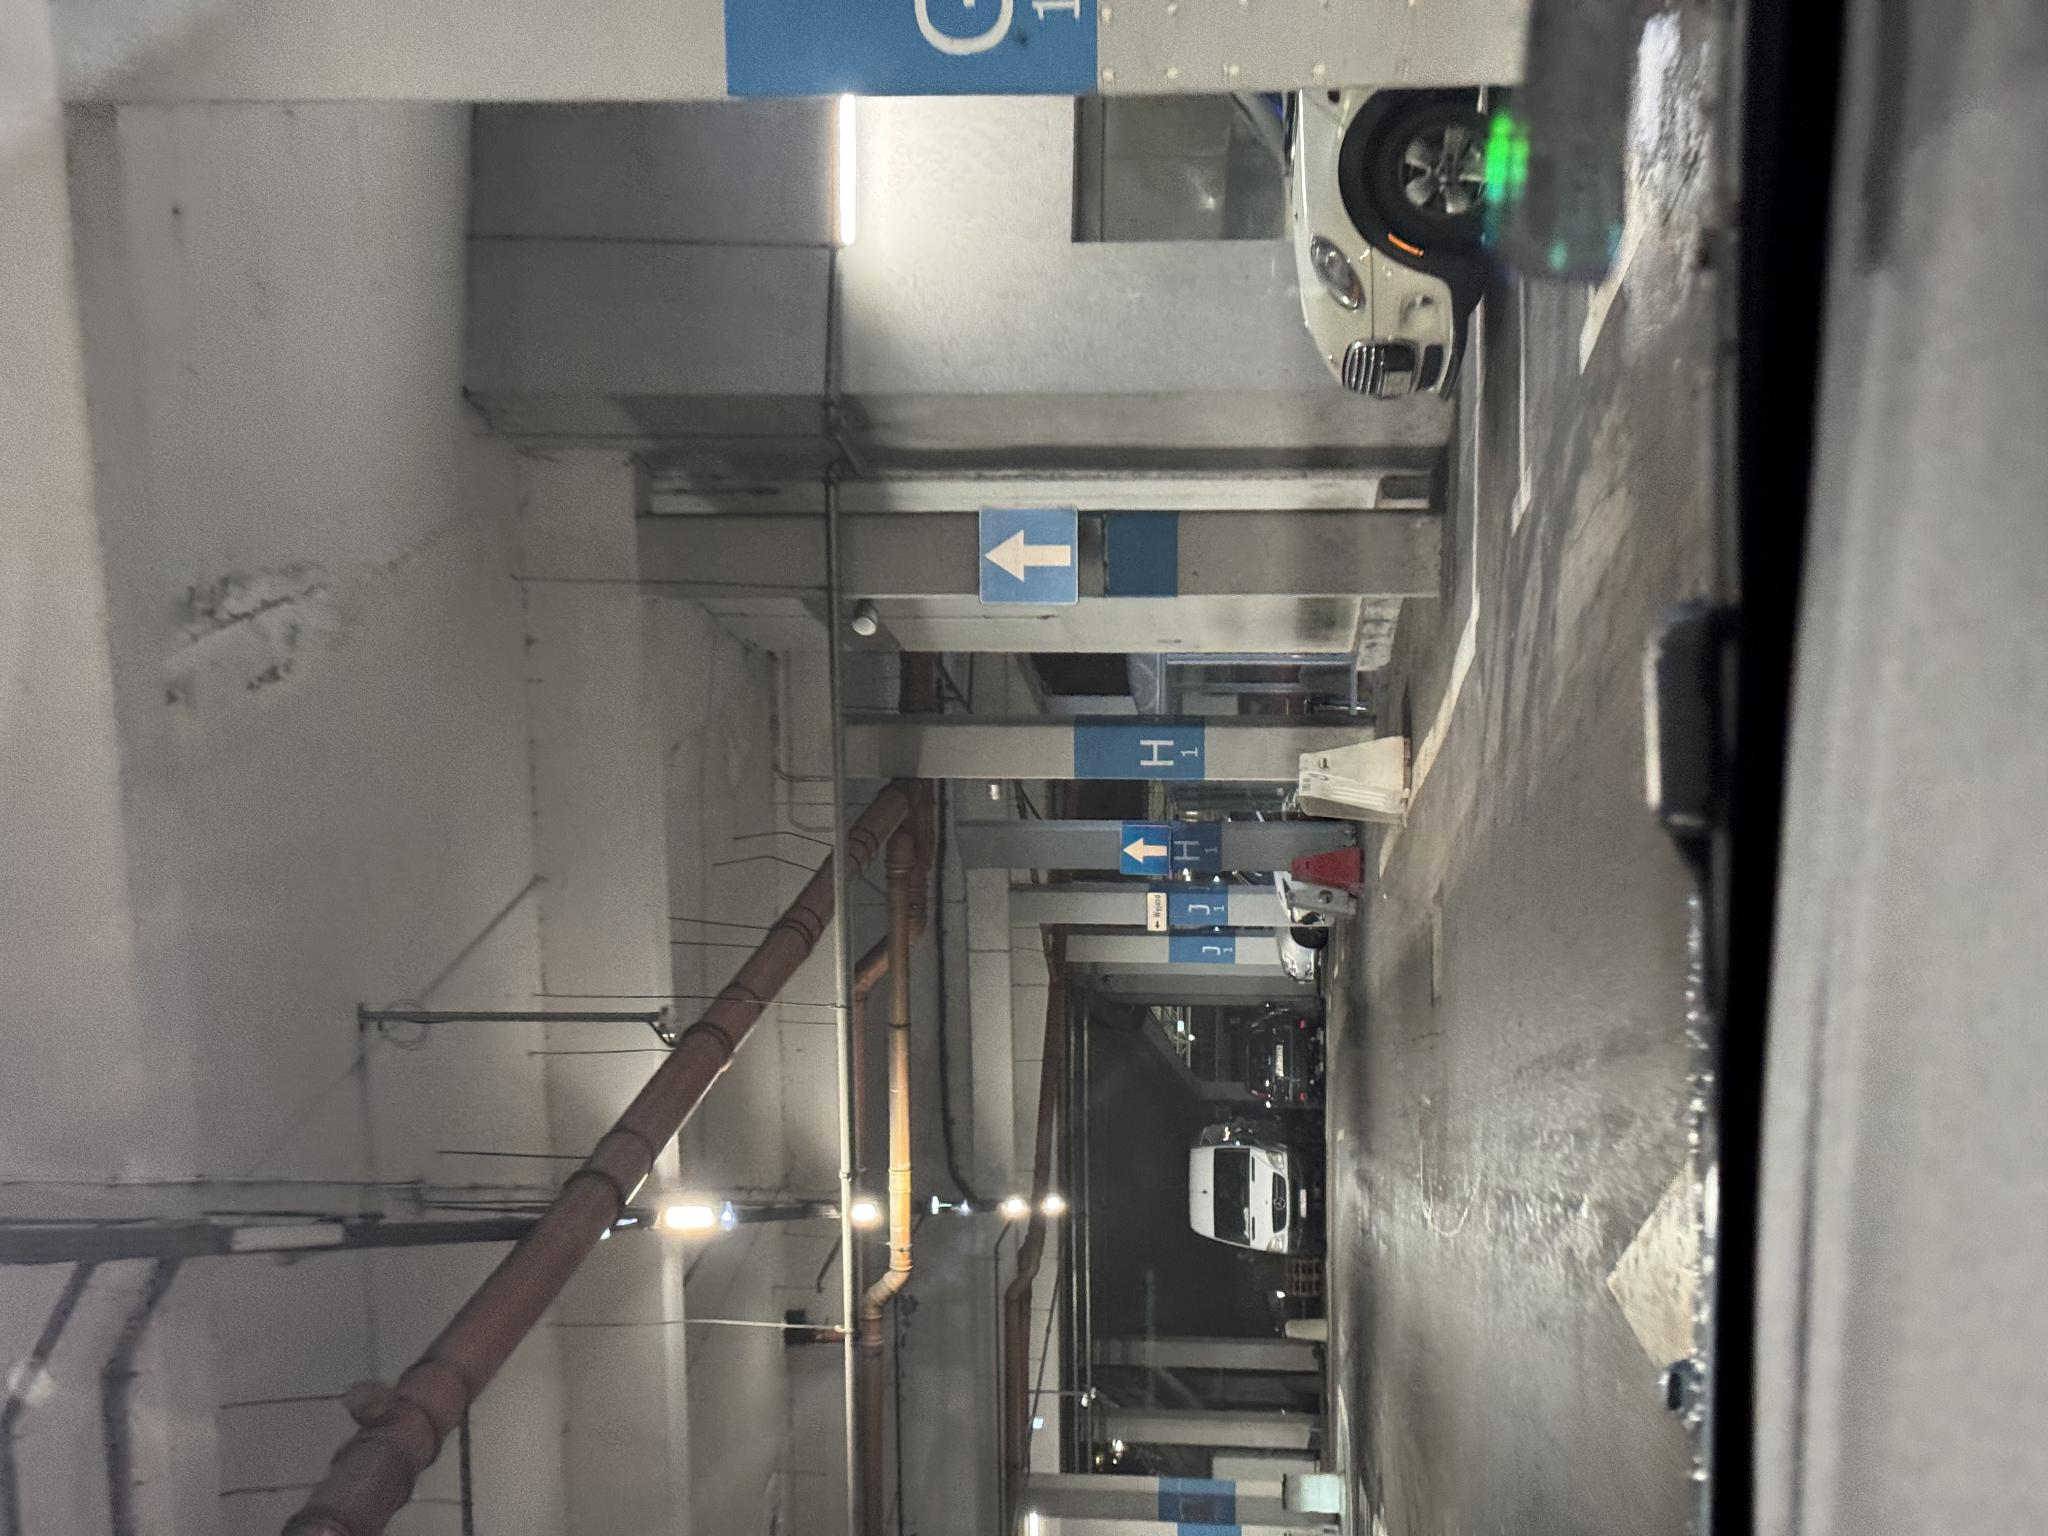information: (932, 980, 1028, 1078), (662, 1120, 710, 1172)
other: (604, 1148, 644, 1168)
